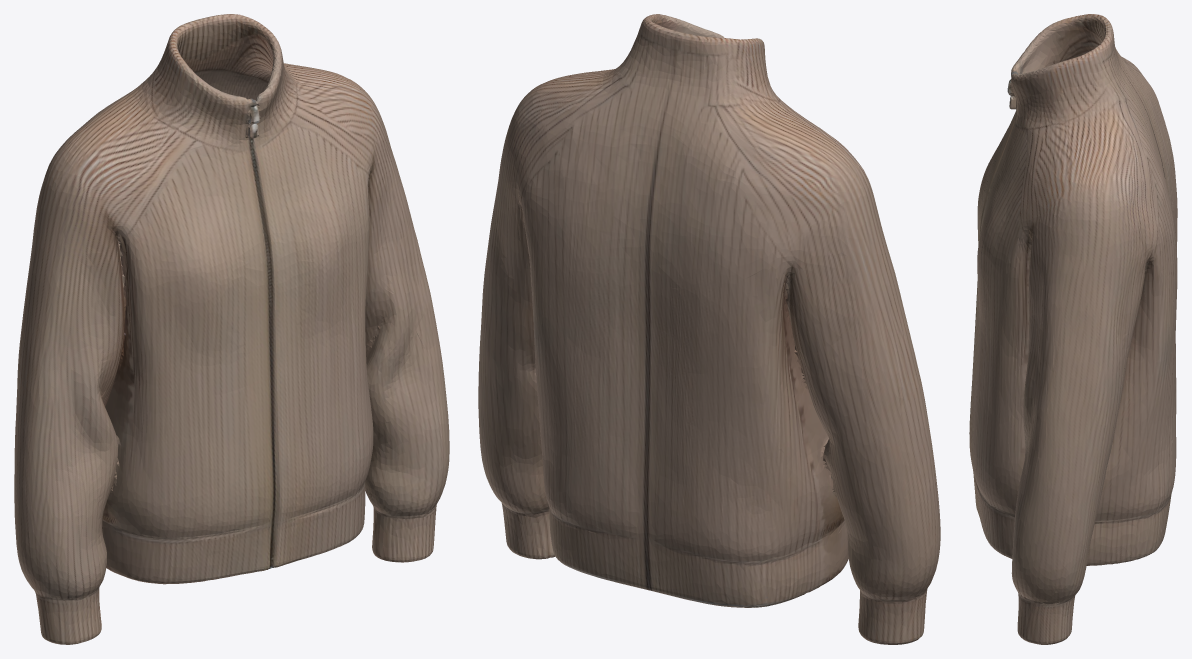
Rendered from m_mul3le0hyamx.glb.
The picture shows the model from 3 angles, left to right: view 1: azimuth 30°, elevation 25°; view 2: azimuth 150°, elevation 25°; view 3: azimuth 270°, elevation 25°; orthographic projection. The views are drawn at different scales.
Parts seen in each view (by area): view 1: demo_textured.obj; view 2: demo_textured.obj; view 3: demo_textured.obj.
Part boxes in pixels (box(x1,y1,x2,y2)): demo_textured.obj: box(14, 14, 449, 644); demo_textured.obj: box(478, 14, 940, 644); demo_textured.obj: box(969, 14, 1177, 644).
Size of the model in its own units: 1.6 by 1.99 by 0.711.
Materials: 1 (1 with a texture image).
